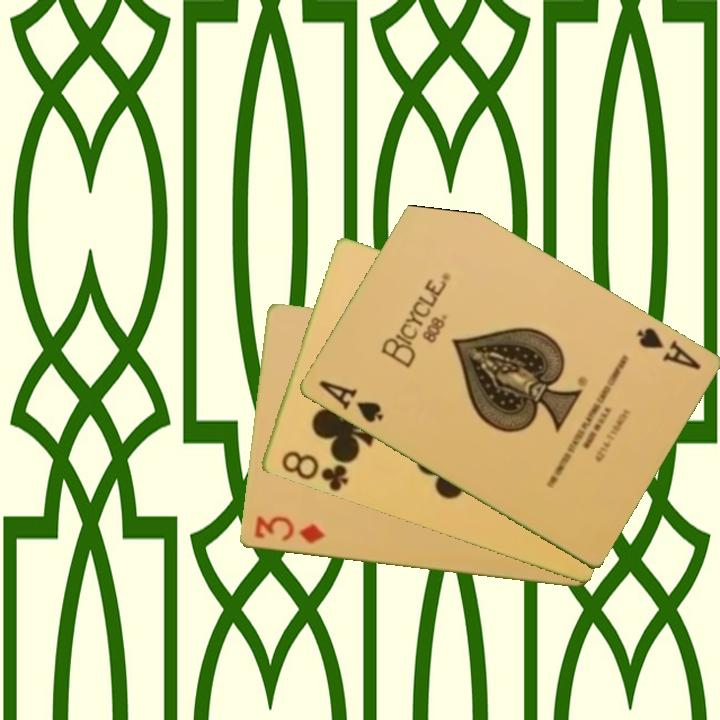3d: (251, 512, 328, 547)
8c: (277, 447, 353, 494)
As: (632, 324, 704, 374), (315, 377, 386, 426)
